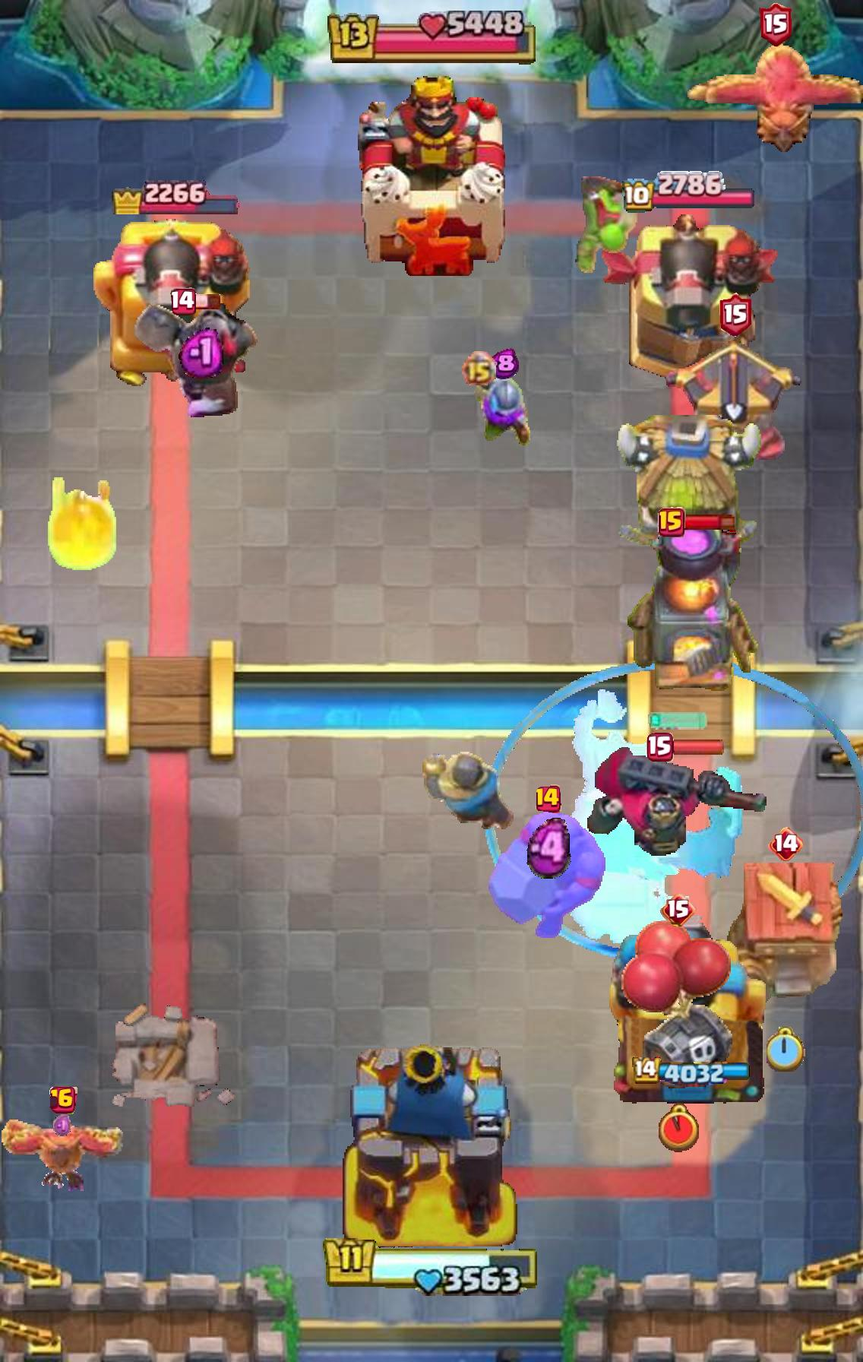bar: (682, 512, 735, 532), (670, 739, 725, 755), (192, 293, 221, 310)
bar-level: (759, 3, 791, 47), (719, 293, 751, 337), (660, 893, 697, 926), (768, 827, 803, 861), (658, 507, 686, 537), (647, 733, 675, 762), (50, 1086, 78, 1115), (170, 287, 196, 315), (536, 784, 561, 813)
